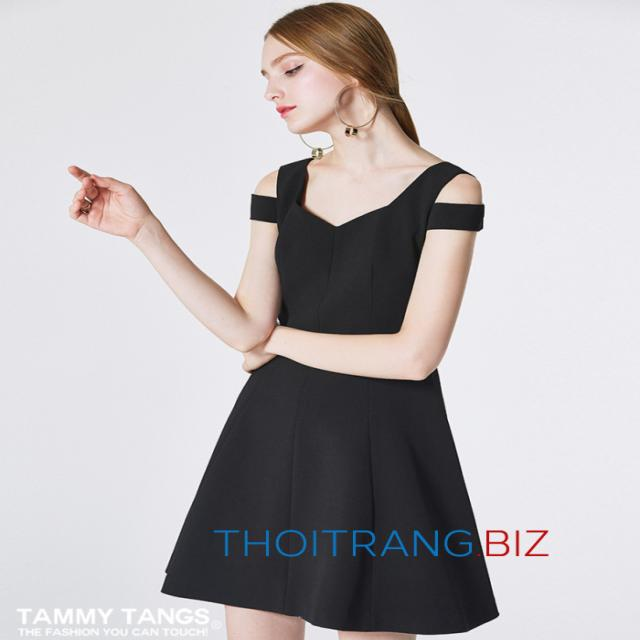clothes: (160, 150, 498, 635)
